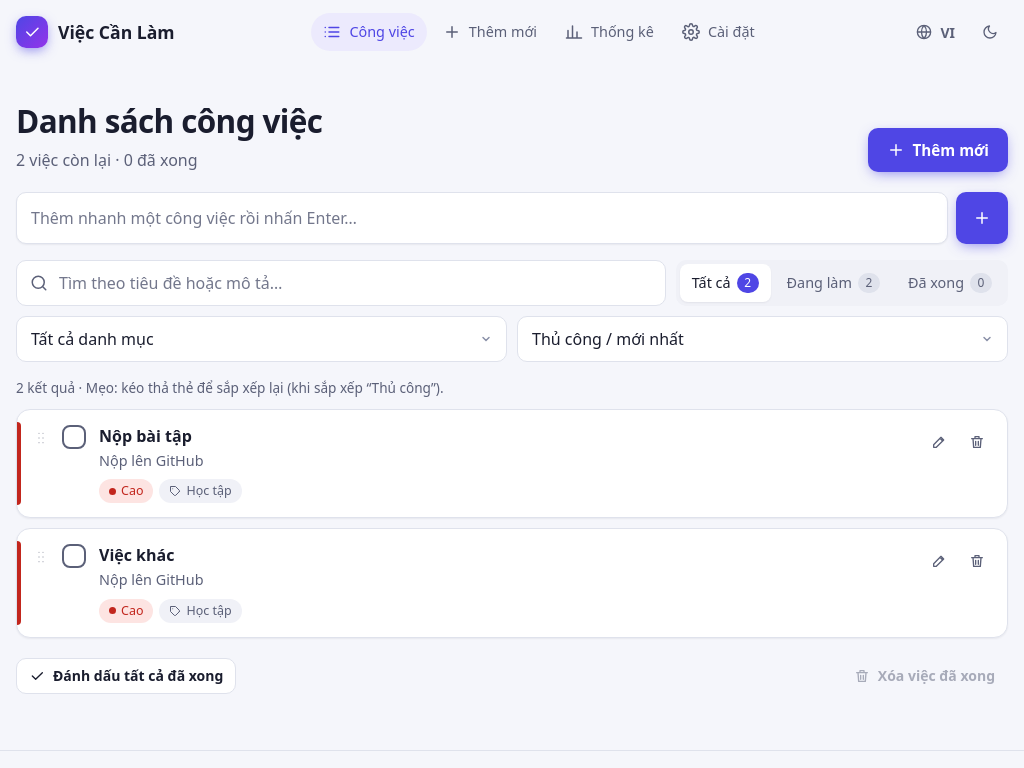
Test: Todo App (UI) › đánh dấu hoàn thành và lọc theo trạng thái
Click the checkbox named "Đánh dấu “Nộp bài tập” là hoàn thành": (74,437) [61,424,87,450]
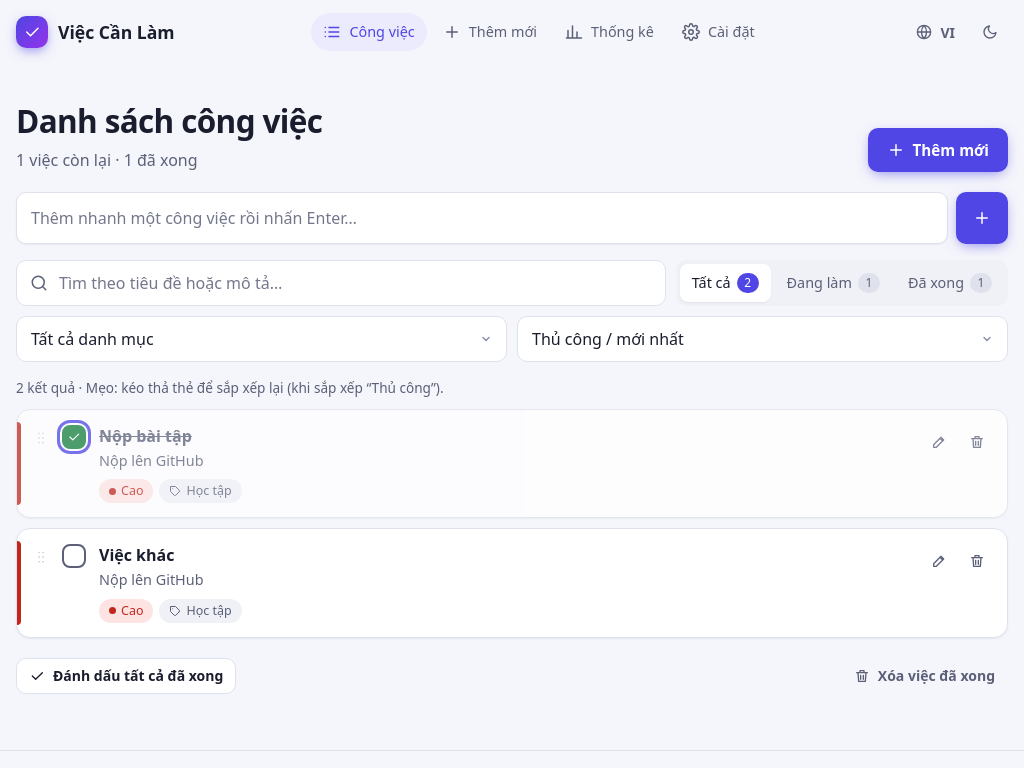
Click the button "Đã xong 1": (950,283) [896,264,1004,302]
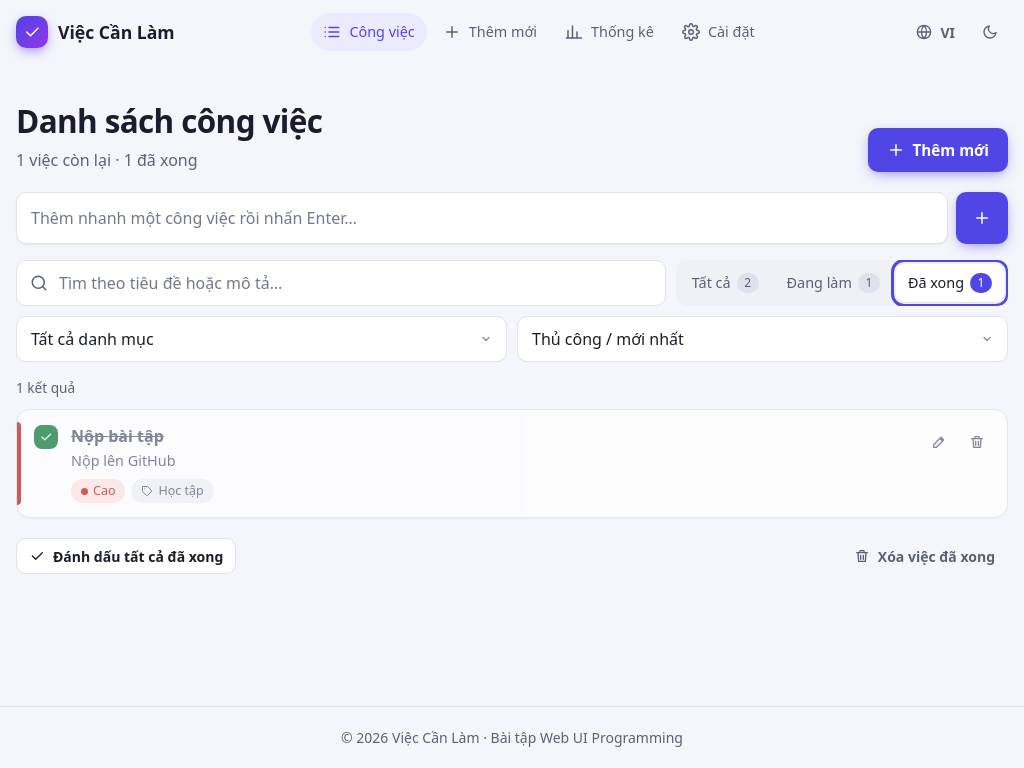
Expected: the link "Nộp bài tập" is shown, [71,424,164,448]
Expected: the link "Việc khác" is gone
